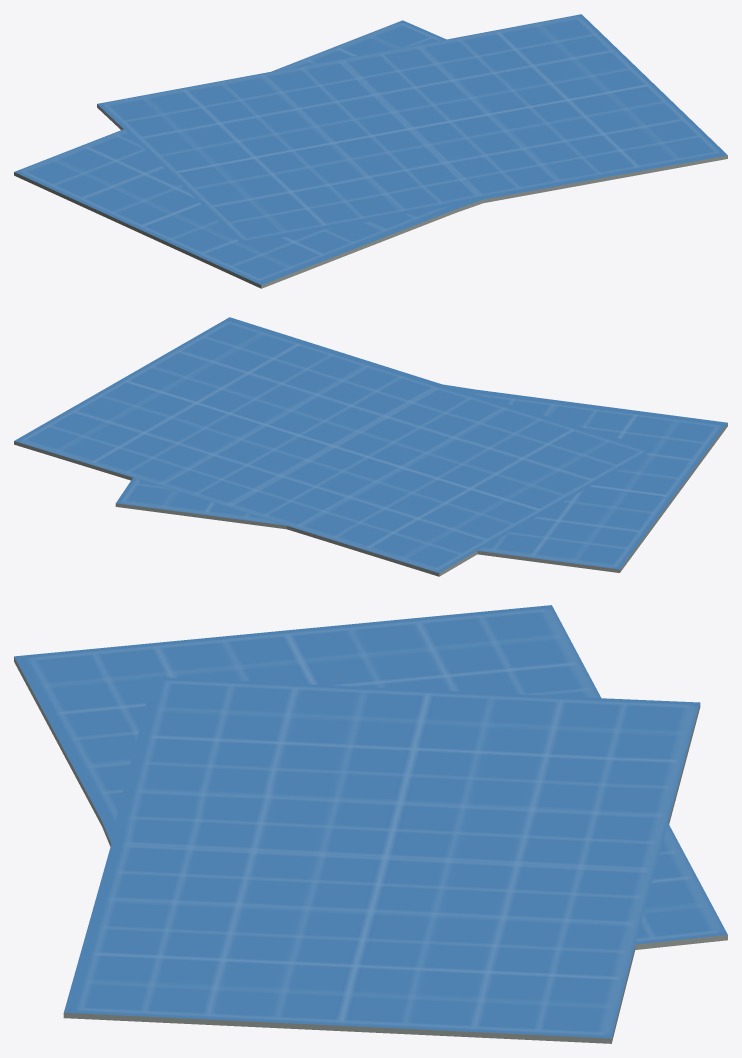
The model's file is SM_Prop_Plans_07.fbx.
The picture shows the model from 3 angles, top to bottom: view 1: azimuth 30°, elevation 25°; view 2: azimuth 150°, elevation 25°; view 3: azimuth 270°, elevation 25°; orthographic projection. The views are drawn at different scales.
Visible parts, largest first — view 1: SM_Prop_Plans_07; view 2: SM_Prop_Plans_07; view 3: SM_Prop_Plans_07.
Boxes of the visible parts, x1,y1,x2,y2 form: SM_Prop_Plans_07: (14,14,727,288); SM_Prop_Plans_07: (14,317,727,576); SM_Prop_Plans_07: (14,605,727,1043).
Bounding box in the file's own units: 112 × 0.6513 × 77.74.
